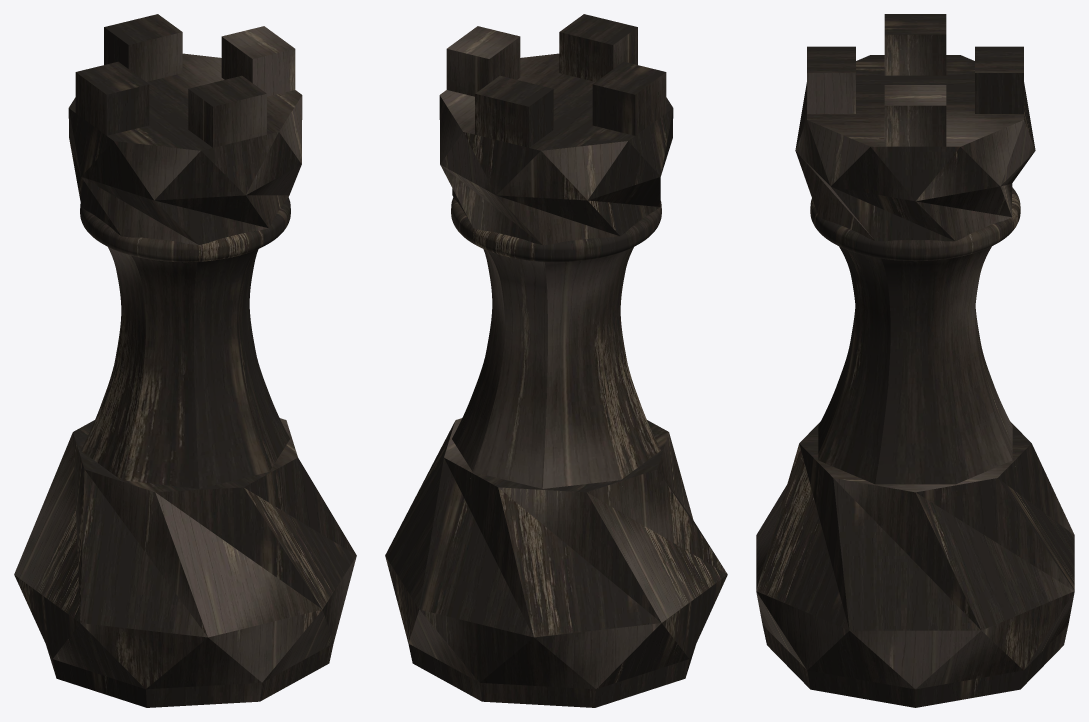
Rendered from rook-black.glb.
The picture shows the model from 3 angles, left to right: view 1: azimuth 30°, elevation 25°; view 2: azimuth 150°, elevation 25°; view 3: azimuth 270°, elevation 25°; orthographic projection.
Parts seen in each view (by area): view 1: Lithoxyl_Rook_Onyx; view 2: Lithoxyl_Rook_Onyx; view 3: Lithoxyl_Rook_Onyx.
Boxes of the visible parts, x1,y1,x2,y2 form: Lithoxyl_Rook_Onyx: (14, 14, 356, 707); Lithoxyl_Rook_Onyx: (385, 14, 727, 707); Lithoxyl_Rook_Onyx: (756, 14, 1074, 707).
Bounding box in the file's own units: 0.4983 × 1.01 × 0.4983.
1 material, 1 textured.
